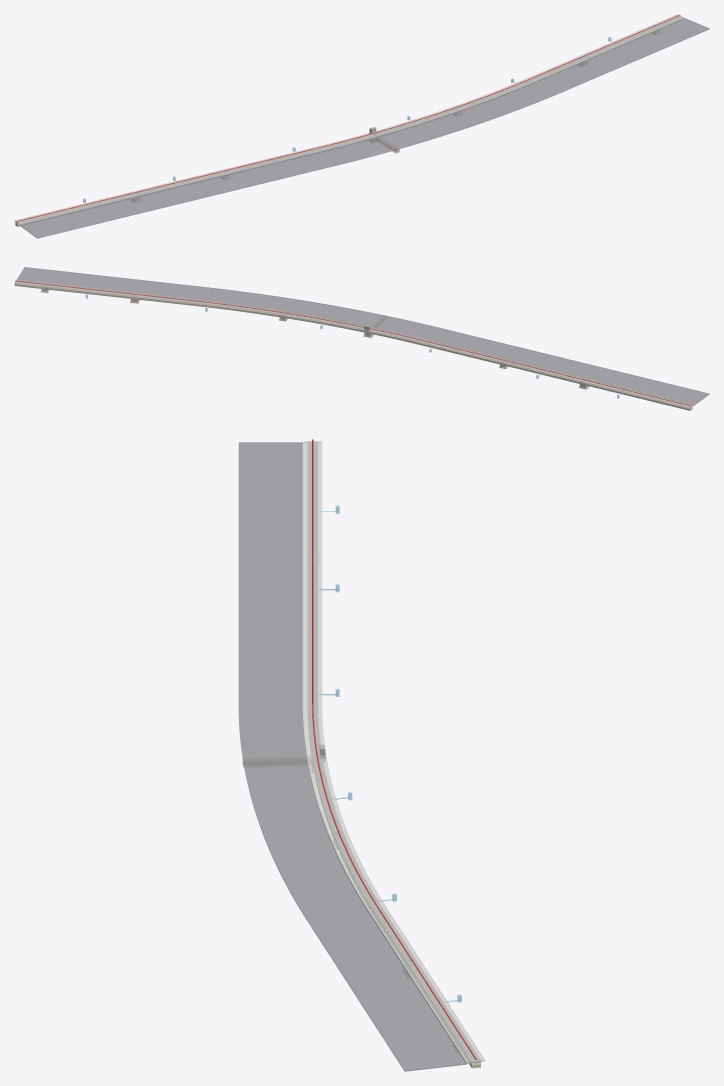
The picture shows the model from 3 angles, top to bottom: view 1: azimuth 30°, elevation 25°; view 2: azimuth 150°, elevation 25°; view 3: azimuth 270°, elevation 25°; orthographic projection. The views are drawn at different scales.
Parts seen in each view (by area): view 1: 道路|車道 (参考), 舗装|歩道舗装復旧 (t=19cm), 道路|歩道 (参考), 道路|歩車道境界ブロック (参考), 線形|管路ルート (中心線); view 2: 道路|車道 (参考), 道路|歩道 (参考), 舗装|歩道舗装復旧 (t=19cm), 土工|管路基礎 (砂 t=10cm) / 埋戻し砂, 道路|歩車道境界ブロック (参考), 線形|管路ルート (中心線), 土工|埋戻し (掘削断面); view 3: 道路|車道 (参考), 舗装|歩道舗装復旧 (t=19cm), 道路|歩道 (参考), 道路|歩車道境界ブロック (参考), 線形|管路ルート (中心線).
Boxes of the visible parts, x1,y1,x2,y2 form: 道路|車道 (参考): (19, 18, 709, 238); 舗装|歩道舗装復旧 (t=19cm): (15, 15, 682, 223); 道路|歩道 (参考): (14, 14, 683, 224); 道路|歩車道境界ブロック (参考): (19, 17, 684, 224); 線形|管路ルート (中心線): (16, 14, 680, 221); 道路|車道 (参考): (17, 267, 709, 405); 道路|歩道 (参考): (14, 280, 693, 408); 舗装|歩道舗装復旧 (t=19cm): (14, 281, 692, 407); 土工|管路基礎 (砂 t=10cm) / 埋戻し砂: (14, 284, 692, 410); 道路|歩車道境界ブロック (参考): (16, 279, 693, 405); 線形|管路ルート (中心線): (15, 280, 691, 406); 土工|埋戻し (掘削断面): (18, 284, 692, 409); 道路|車道 (参考): (238, 442, 466, 1071); 舗装|歩道舗装復旧 (t=19cm): (307, 441, 481, 1062); 道路|歩道 (参考): (303, 441, 485, 1063); 道路|歩車道境界ブロック (参考): (302, 441, 467, 1064); 線形|管路ルート (中心線): (312, 439, 476, 1060).
Bounding box in the file's own units: 240 × 3.95 × 39.86.
